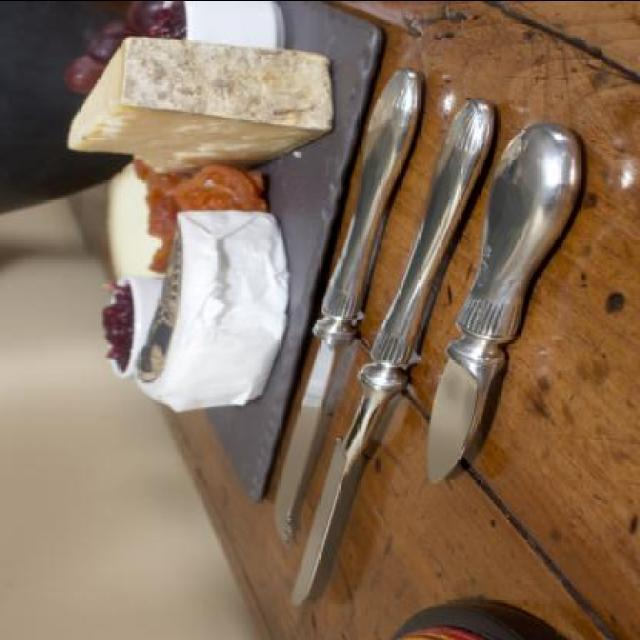Cheese: (68, 33, 334, 173)
